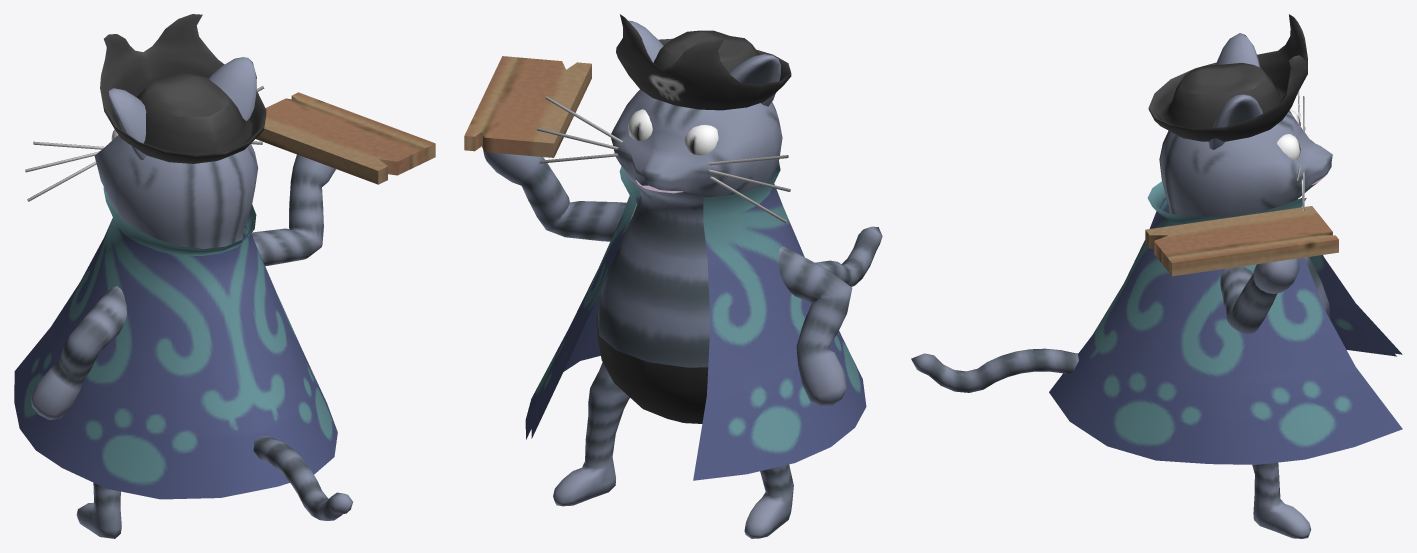
Rendered from neko_idle_c_05.fbx.
3 renders of one model, left to right at view 1: azimuth 30°, elevation 25°; view 2: azimuth 150°, elevation 25°; view 3: azimuth 270°, elevation 25°, orthographic. The views are drawn at different scales.
Visible parts, largest first — view 1: I_c_05; view 2: I_c_05; view 3: I_c_05.
Part boxes in pixels (x1,y1,x2,y2): I_c_05: (14,14,435,538); I_c_05: (464,14,882,538); I_c_05: (911,14,1402,538).
Bounding box in the file's own units: 1.55 × 1.93 × 1.89.
1 material, 1 textured.
